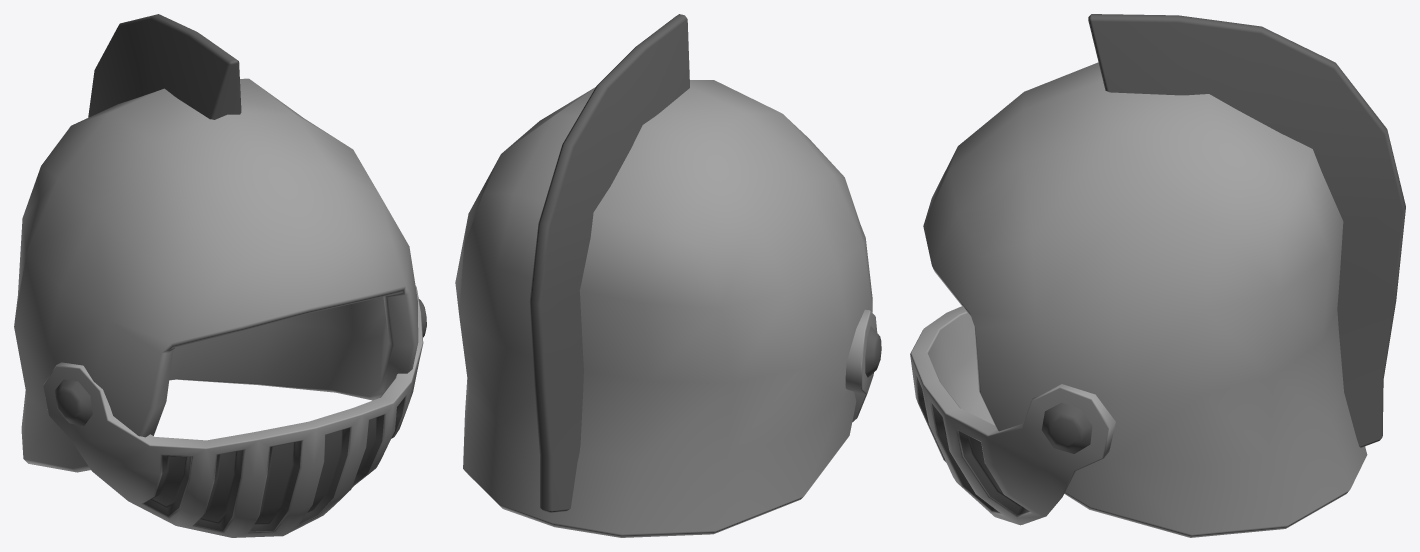
The model's file is Hat_015.glb.
The picture shows the model from 3 angles, left to right: view 1: azimuth 30°, elevation 25°; view 2: azimuth 150°, elevation 25°; view 3: azimuth 270°, elevation 25°; orthographic projection. The views are drawn at different scales.
Parts seen in each view (by area): view 1: Hat_015; view 2: Hat_015; view 3: Hat_015.
Part boxes in pixels (x1,y1,x2,y2): Hat_015: (14,14,426,537); Hat_015: (455,14,881,537); Hat_015: (910,14,1405,537).
Bounding box in the file's own units: 0.4937 × 0.5685 × 0.5288.
1 material, 1 textured.
